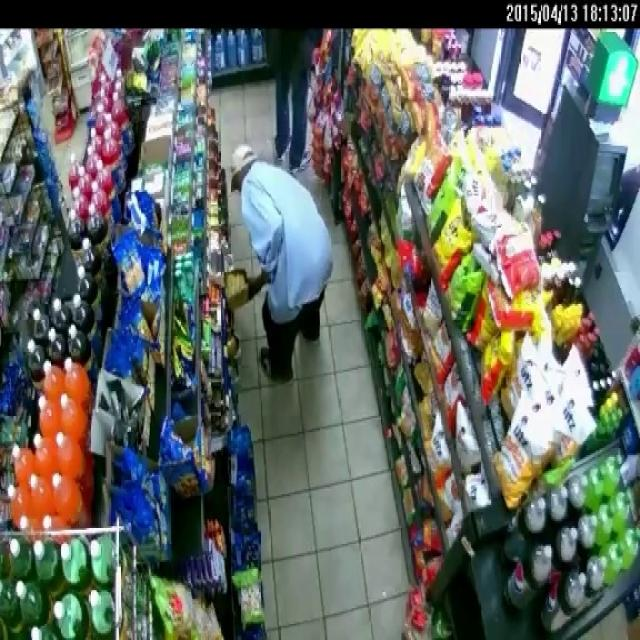Product: (217, 254, 249, 309)
normal: (253, 25, 333, 143)
shoplifting: (185, 115, 348, 412)
